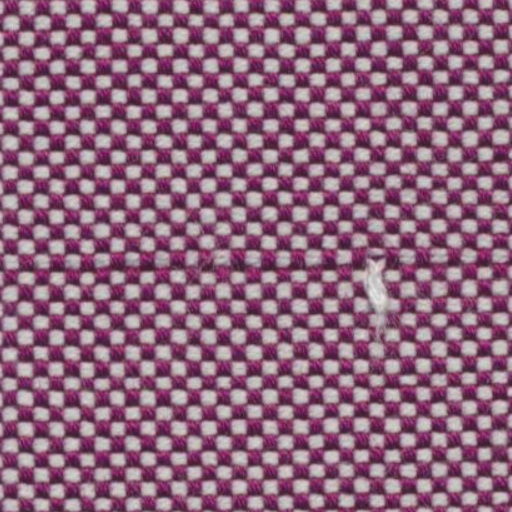DuanSha: (353, 223, 404, 344)
